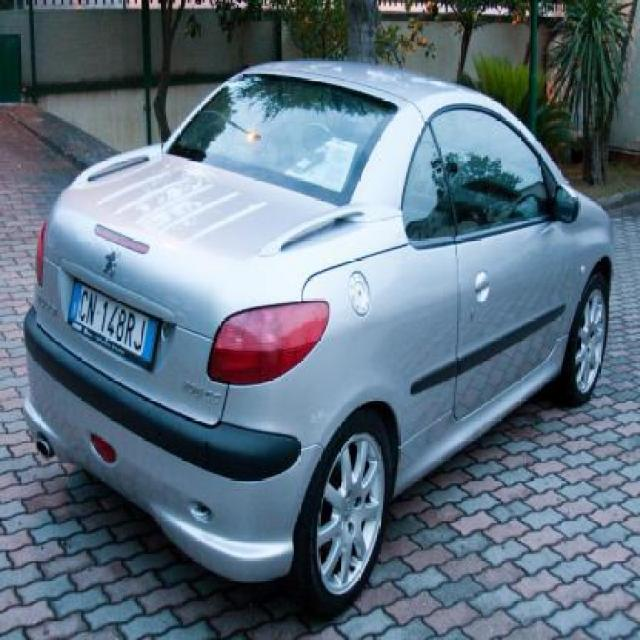License-Plates: (68, 278, 164, 372)
